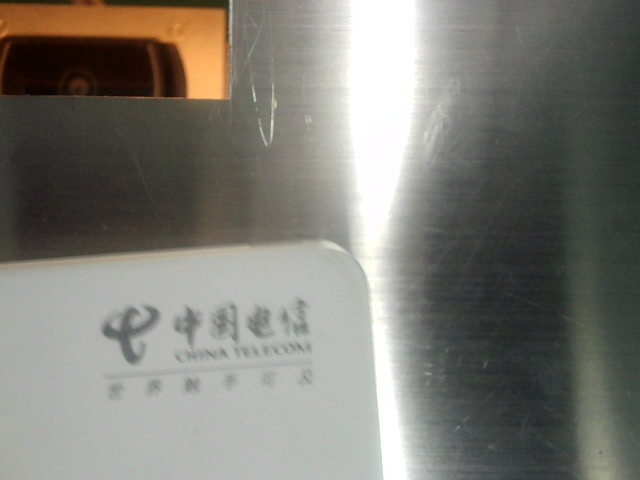AB_ChinaTelecom: (87, 292, 334, 405)
